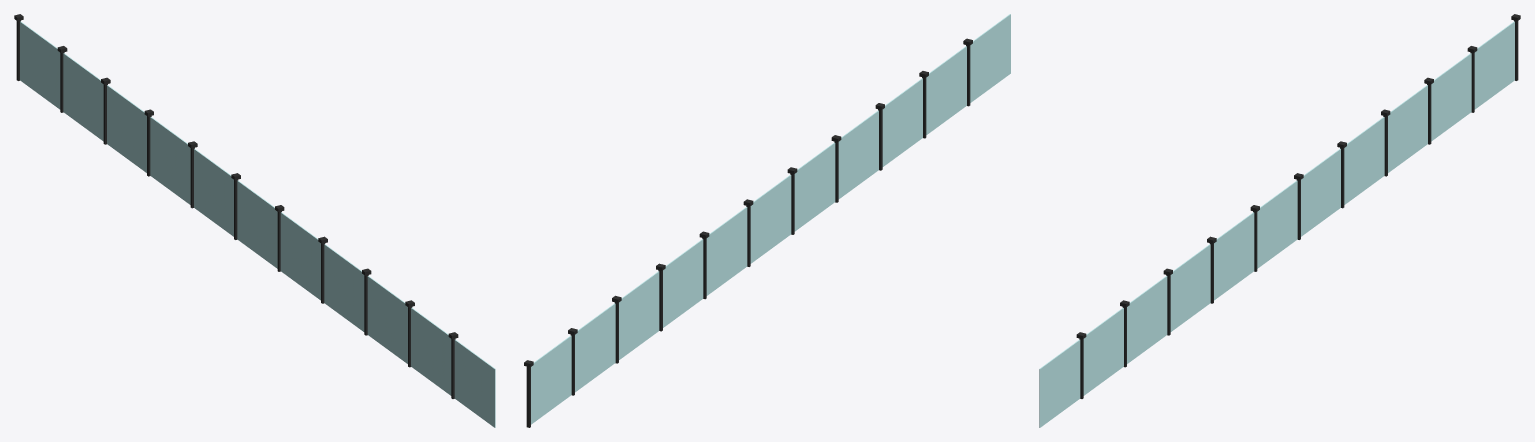
File: Balcony.009.fbx
The picture shows the model from 3 angles, left to right: view 1: azimuth 30°, elevation 25°; view 2: azimuth 150°, elevation 25°; view 3: azimuth 330°, elevation 25°; orthographic projection.
Parts seen in each view (by area): view 1: Balcony.009; view 2: Balcony.009; view 3: Balcony.009.
Boxes of the visible parts, x1,y1,x2,y2 form: Balcony.009: [14, 14, 495, 427]; Balcony.009: [524, 14, 1010, 427]; Balcony.009: [1039, 14, 1520, 427].
Size of the model in its own units: 44.44 by 437 by 5886.
